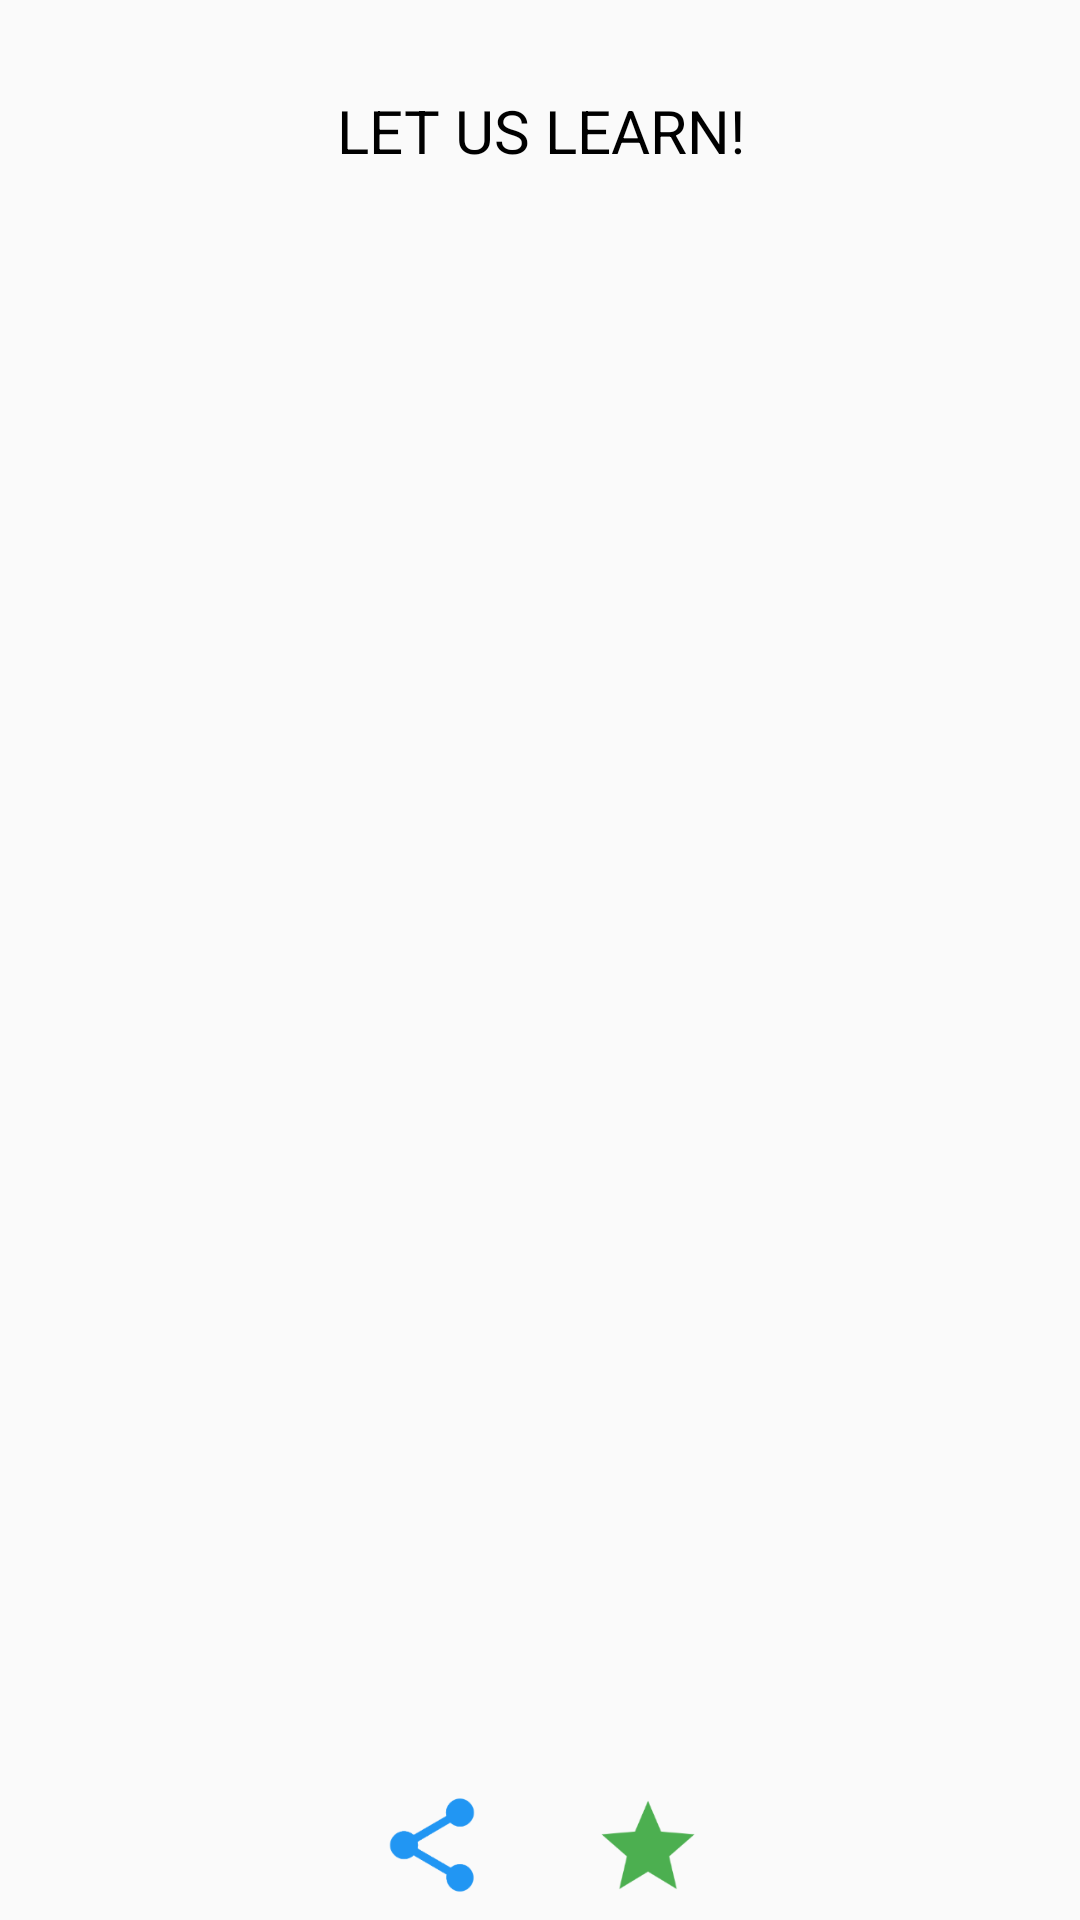

Icon bounding boxes for this 1080 × 1920 phone screenshot, format (x1, y1, x2, y2):
Rate: (602, 1801, 694, 1889)
Share: (389, 1798, 475, 1892)
